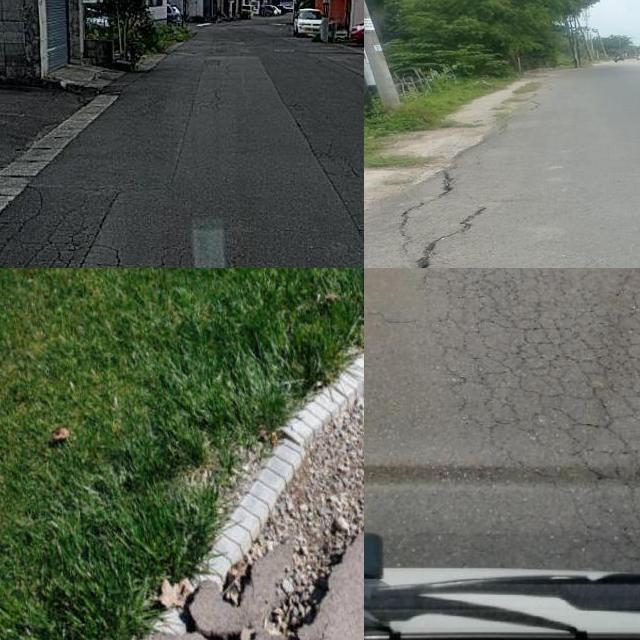Pinggir: (96, 316, 364, 640)
Retak Buaya: (415, 268, 640, 545)
Sambungan: (255, 62, 364, 237)
